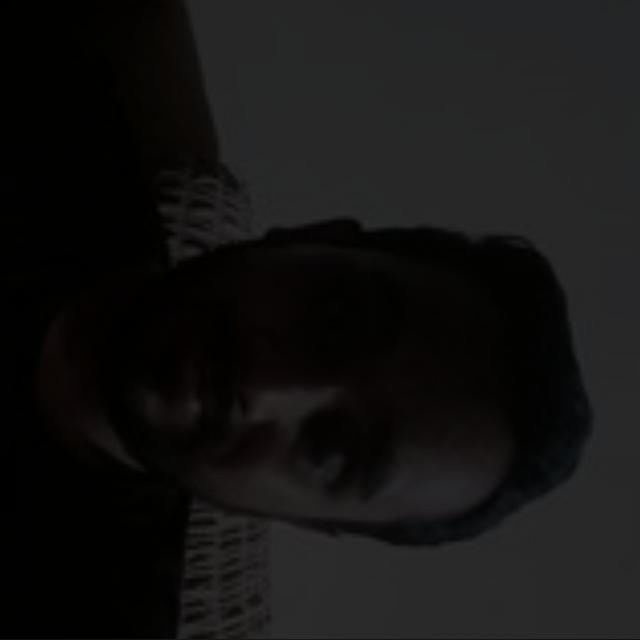Disgust: (109, 227, 529, 545)
